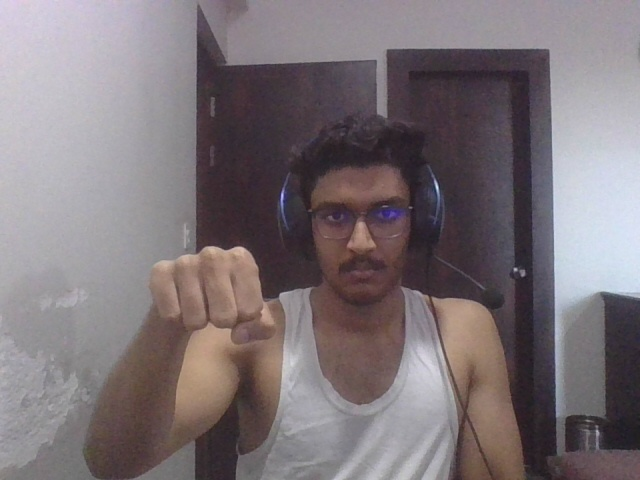Yes: (134, 242, 285, 350)
